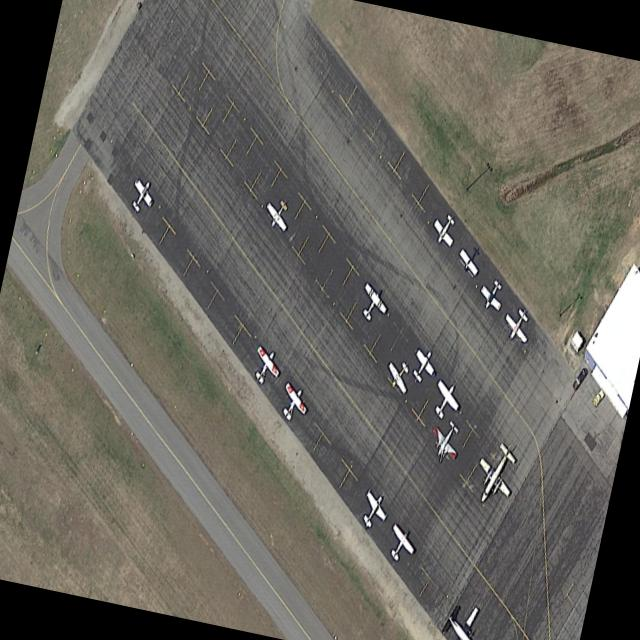plane: (465, 427, 524, 522), (435, 590, 490, 640), (425, 408, 465, 471), (425, 372, 462, 428), (498, 296, 535, 352), (353, 275, 390, 329), (246, 338, 282, 393), (353, 483, 389, 538), (274, 375, 309, 430), (381, 517, 416, 571), (406, 340, 439, 391), (260, 189, 292, 237), (124, 170, 155, 219), (383, 349, 413, 399), (475, 270, 506, 318), (454, 234, 484, 281), (429, 206, 459, 253)
